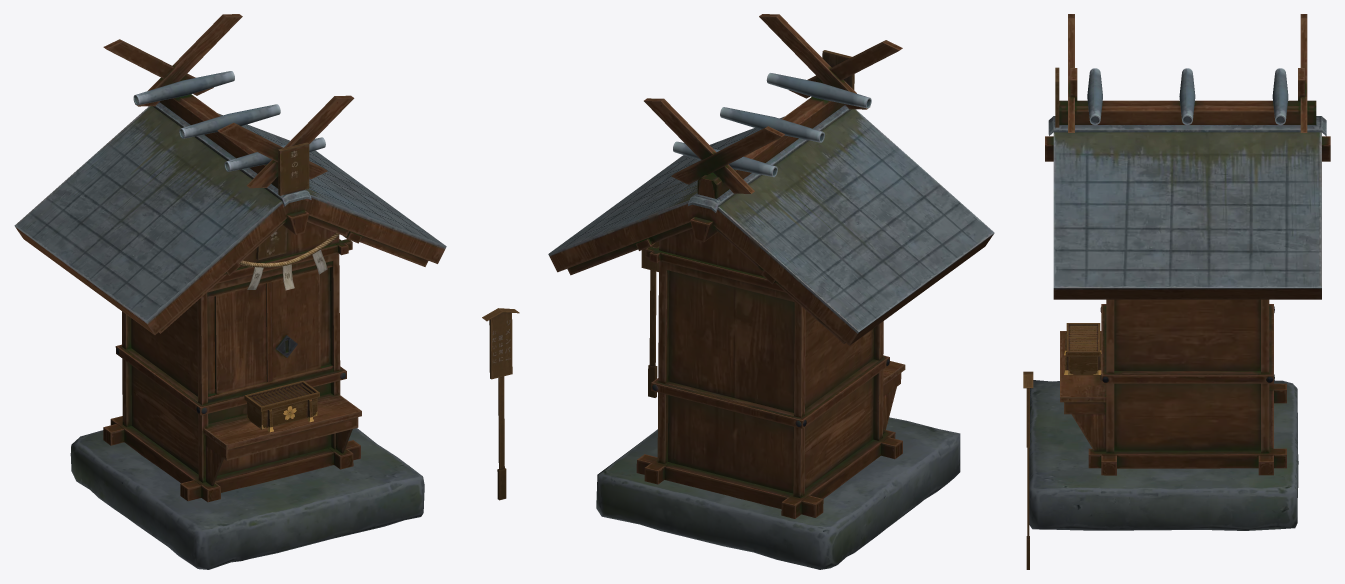
File: altar.glb
3 renders of one model, left to right at view 1: azimuth 30°, elevation 25°; view 2: azimuth 150°, elevation 25°; view 3: azimuth 270°, elevation 25°, orthographic. The views are drawn at different scales.
Visible parts, largest first — view 1: SM_Altars_Altars_0, SM_Stone_slab_Stone_Slab_0, SM_box_Box_0, SM_Sign_Sign_0; view 2: SM_Altars_Altars_0, SM_Stone_slab_Stone_Slab_0, SM_Sign_Sign_0; view 3: SM_Altars_Altars_0, SM_Stone_slab_Stone_Slab_0, SM_box_Box_0, SM_Sign_Sign_0.
Boxes of the visible parts, <box> form: SM_Altars_Altars_0: <box>14,14,446,502</box>; SM_Stone_slab_Stone_Slab_0: <box>70,428,424,569</box>; SM_box_Box_0: <box>244,380,319,432</box>; SM_Sign_Sign_0: <box>482,308,519,500</box>; SM_Altars_Altars_0: <box>548,14,994,518</box>; SM_Stone_slab_Stone_Slab_0: <box>596,417,960,569</box>; SM_Sign_Sign_0: <box>641,241,659,397</box>; SM_Altars_Altars_0: <box>1045,14,1330,475</box>; SM_Stone_slab_Stone_Slab_0: <box>1029,380,1298,530</box>; SM_box_Box_0: <box>1064,323,1101,375</box>; SM_Sign_Sign_0: <box>1023,371,1033,569</box>.
Size of the model in its own units: 3.15 by 3.55 by 2.29.
4 materials, 4 textured.
